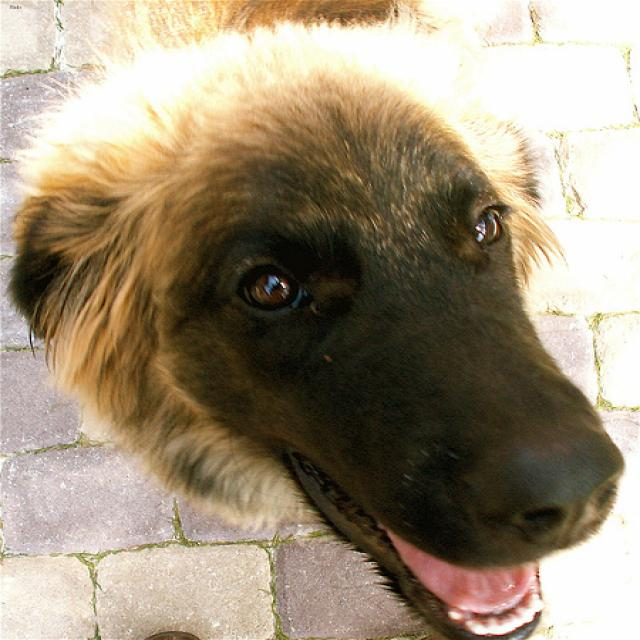dog-leonberger: (1, 1, 637, 637)
